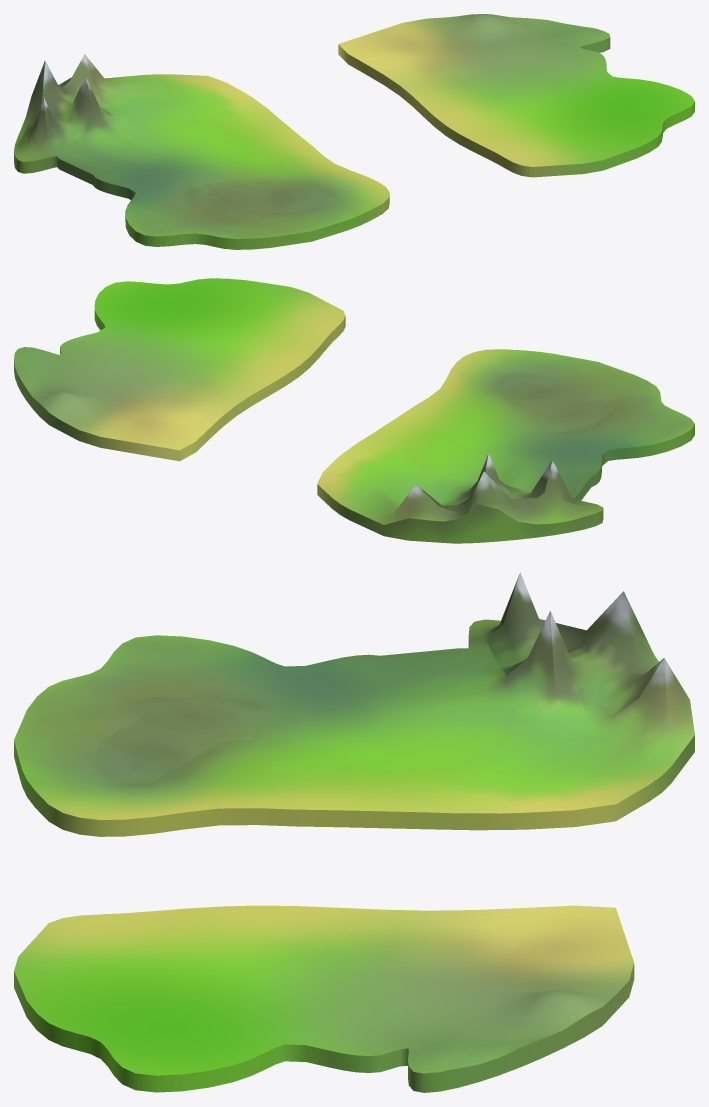
The model's file is SM_Location.fbx.
3 renders of one model, top to bottom at view 1: azimuth 30°, elevation 25°; view 2: azimuth 150°, elevation 25°; view 3: azimuth 270°, elevation 25°, orthographic. The views are drawn at different scales.
Visible parts, largest first — view 1: SM_Location; view 2: SM_Location; view 3: SM_Location.
Part boxes in pixels (x1,y1,x2,y2): SM_Location: (14, 14, 694, 249); SM_Location: (14, 278, 694, 543); SM_Location: (14, 572, 694, 1092).
Size of the model in its own units: 75319 by 7976 by 47731.
